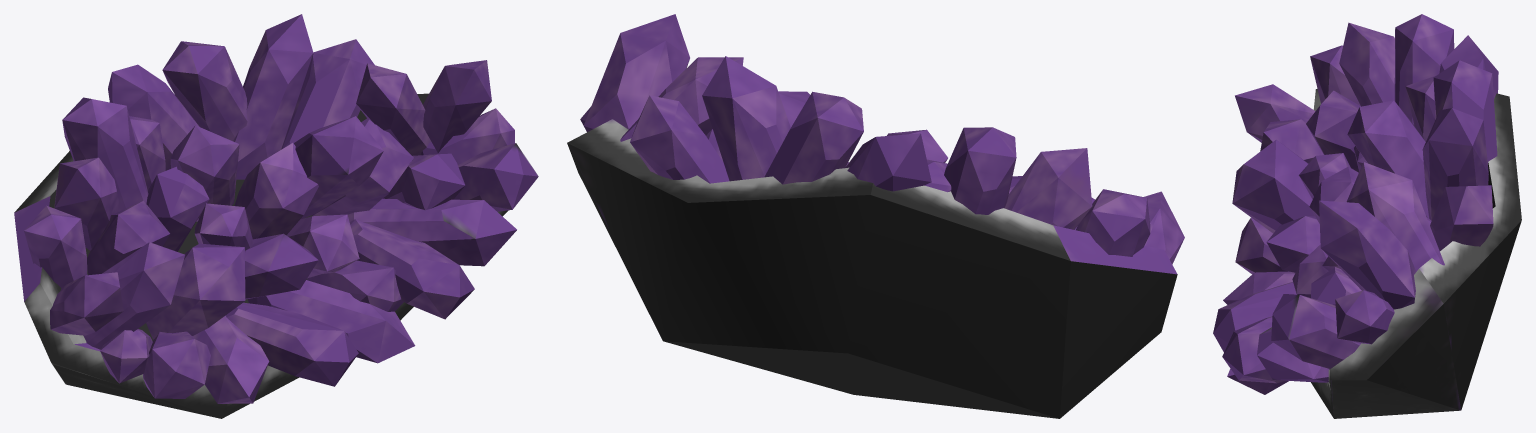
File: DrusaAmetista.fbx
The picture shows the model from 3 angles, left to right: view 1: azimuth 30°, elevation 25°; view 2: azimuth 150°, elevation 25°; view 3: azimuth 270°, elevation 25°; orthographic projection. The views are drawn at different scales.
Visible parts, largest first — view 1: DrusaAmetista; view 2: DrusaAmetista; view 3: DrusaAmetista.
Boxes of the visible parts, x1,y1,x2,y2 form: DrusaAmetista: [14, 14, 538, 418]; DrusaAmetista: [567, 14, 1184, 418]; DrusaAmetista: [1213, 14, 1521, 418].
Size of the model in its own units: 85.26 by 49.24 by 42.51.
